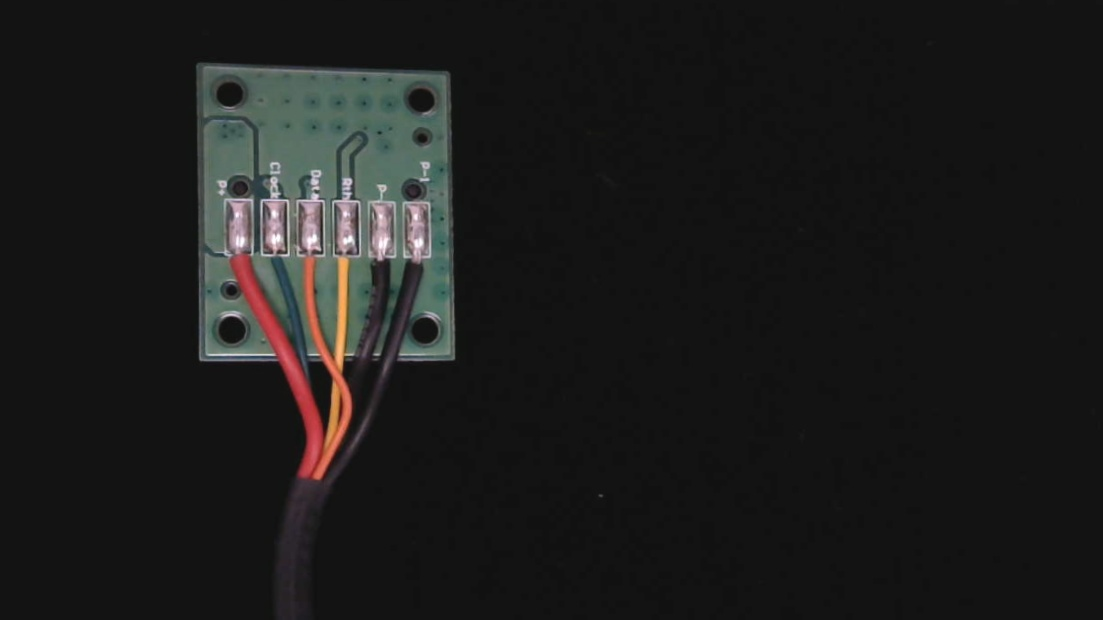Black: (366, 243, 395, 302)
Black1: (404, 245, 435, 304)
Green: (260, 240, 291, 294)
Orange: (296, 240, 325, 295)
Red: (223, 239, 254, 301)
Yellow: (334, 242, 359, 299)
